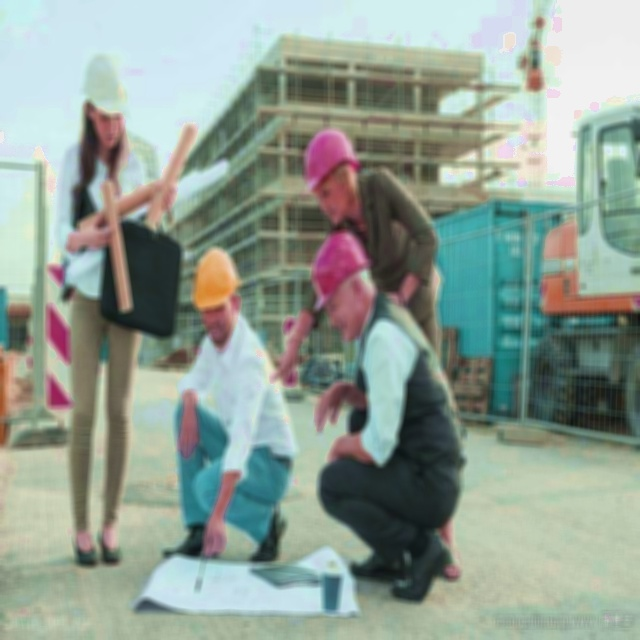Con_Casco: (315, 228, 370, 336), (305, 128, 356, 220), (189, 246, 239, 338), (80, 50, 126, 141)
